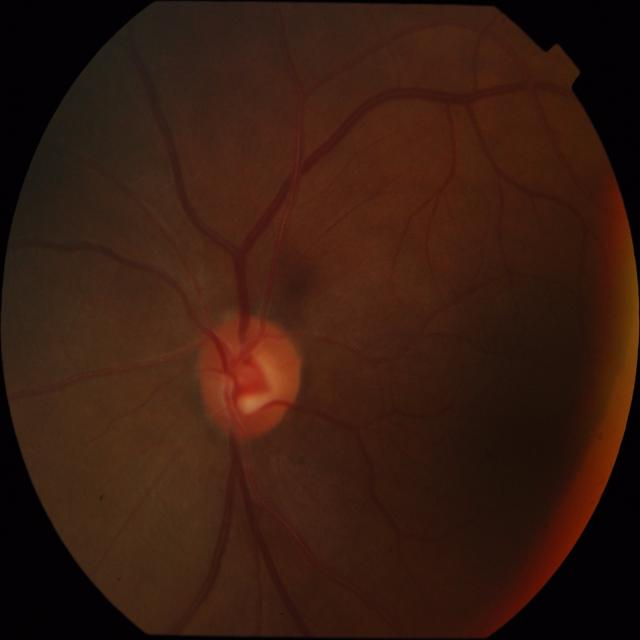OC: (227, 355, 280, 415)
OD: (196, 312, 302, 439)
